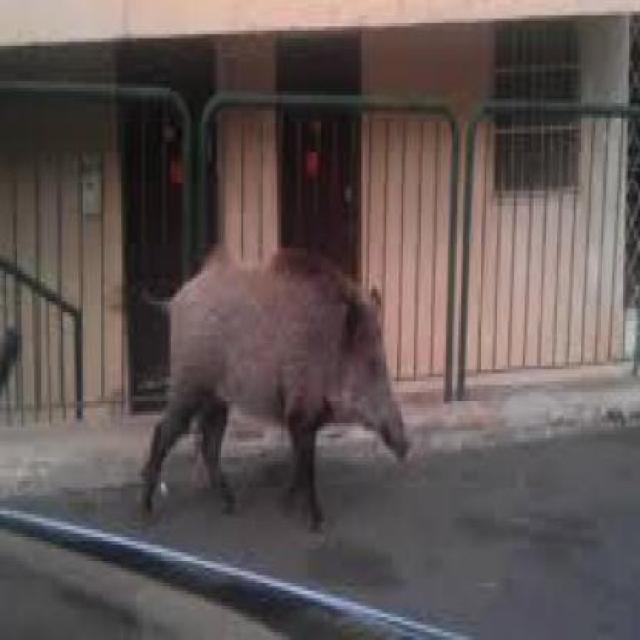wildboar: (112, 245, 413, 547)
